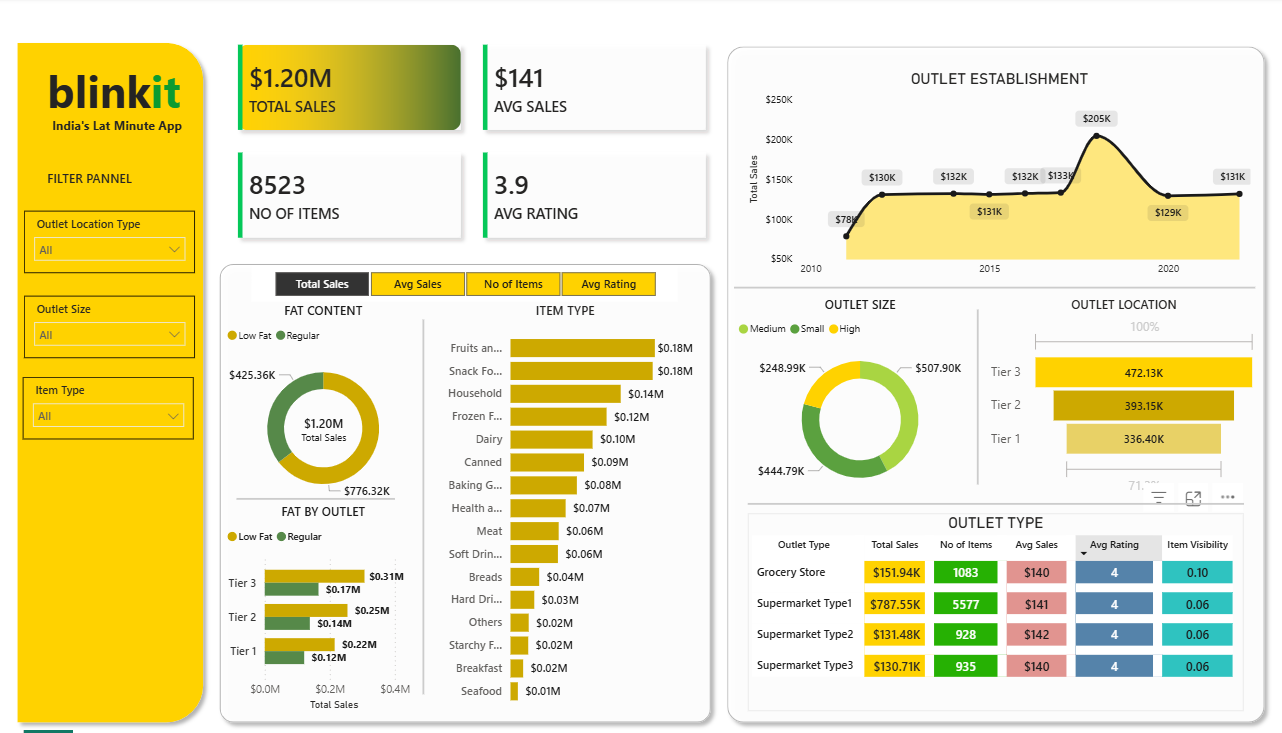

The page's visual inventory and layout, read from the dashboard file:
{"tool":"powerbi","page":{"name":"Page 1","canvas":[1400,800],"ordinal":0},"visuals":[{"type":"shape","box":[10.9,40.9,220.9,759.4],"z":0},{"type":"textbox","box":[47.7,125.4,162.2,32.7],"z":1000},{"type":"textbox","box":[47.7,64.1,165,77.7],"z":2000},{"type":"cardVisual","fields":{"Data":["BlinkIT Grocery Data.Total Sales","BlinkIT Grocery Data.Avg Sales","BlinkIT Grocery Data.No of Items","BlinkIT Grocery Data.Avg Rating"]},"box":[231.8,23.2,569.9,269.9],"z":3000},{"type":"shape","box":[231.8,282.2,553.5,518.1],"z":4000},{"type":"slicer","fields":{"Values":["Metrics.Metrics"]},"box":[275.4,293.1,464.9,39.5],"z":5000},{"type":"donutChart","title":"FAT CONTENT","fields":{"Y":["BlinkIT Grocery Data.Total Sales"],"Category":["BlinkIT Grocery Data.Item Fat Content"]},"box":[244,332.7,219.5,230.4],"z":6000},{"type":"cardVisual","fields":{"Data":["BlinkIT Grocery Data.Total Sales"]},"box":[276.8,439,155.4,64.1],"z":7000},{"type":"clusteredBarChart","title":"FAT BY OUTLET","fields":{"Y":["BlinkIT Grocery Data.Total Sales"],"Category":["BlinkIT Grocery Data.Outlet Location Type"],"Series":["BlinkIT Grocery Data.Item Fat Content"]},"box":[244,552.2,219.5,230.4],"z":8000},{"type":"shape","box":[259,531.7,173.1,31.4],"z":9000},{"type":"shape","box":[376.3,351.7,173.1,409],"z":10000},{"type":"barChart","title":"ITEM TYPE","fields":{"Y":["BlinkIT Grocery Data.Total Sales"],"Category":["BlinkIT Grocery Data.Item Type"]},"box":[473.1,332.7,289,449.9],"z":11000},{"type":"shape","box":[785.3,45,604,755.3],"z":12000},{"type":"lineChart","title":"OUTLET ESTABLISHMENT","fields":{"Y":["BlinkIT Grocery Data.Total Sales"],"Category":["BlinkIT Grocery Data.Outlet Establishment Year"]},"box":[812.5,79.1,557.6,234.5],"z":13000},{"type":"shape","box":[801.6,301.3,568.5,31.4],"z":14000},{"type":"donutChart","title":"OUTLET SIZE","fields":{"Y":["BlinkIT Grocery Data.Total Sales"],"Category":["BlinkIT Grocery Data.Outlet Size"]},"box":[801.6,325.8,275.4,225],"z":15000},{"type":"shape","box":[1048.4,340.8,38.2,190.9],"z":16000},{"type":"funnel","title":"OUTLET LOCATION","fields":{"Y":["Sum(BlinkIT Grocery Data.Sales)"],"Category":["BlinkIT Grocery Data.Outlet Location Type"]},"box":[1077,325.8,299.9,222.2],"z":17000},{"type":"pivotTable","title":"OUTLET TYPE","fields":{"Rows":["BlinkIT Grocery Data.Outlet Type"],"Values":["BlinkIT Grocery Data.Total Sales","BlinkIT Grocery Data.No of Items","BlinkIT Grocery Data.Avg Sales","BlinkIT Grocery Data.Avg Rating","Avg(BlinkIT Grocery Data.Item Visibility)"]},"box":[816.6,563.1,541.2,216.8],"z":18000},{"type":"shape","box":[816.6,537.2,541.2,31.4],"z":19000},{"type":"slicer","title":"FILTER PANNEL","fields":{"Values":["BlinkIT Grocery Data.Outlet Location Type"]},"box":[27.3,233.1,186.8,68.2],"z":20000},{"type":"slicer","fields":{"Values":["BlinkIT Grocery Data.Outlet Size"]},"box":[27.3,325.8,186.8,68.2],"z":21000},{"type":"slicer","fields":{"Values":["BlinkIT Grocery Data.Item Type"]},"box":[25.9,414.5,186.8,68.2],"z":22000},{"type":"textbox","box":[47.7,184.1,166.3,27.3],"z":23000}]}

Visuals, with their boxes in screenshot pixels (x1, y1, x2, y2), scaled from the page's 1400x800 canvas onto the 1282x733 screenshot:
shape: detection(10, 37, 212, 732)
textbox: detection(44, 115, 192, 145)
textbox: detection(44, 59, 195, 130)
cardVisual - BlinkIT Grocery Data.Total Sales x BlinkIT Grocery Data.Avg Sales: detection(212, 21, 734, 269)
shape: detection(212, 259, 719, 732)
slicer - Metrics.Metrics: detection(252, 269, 678, 305)
"FAT CONTENT" donutChart: detection(223, 305, 424, 516)
cardVisual - BlinkIT Grocery Data.Total Sales: detection(253, 402, 396, 461)
"FAT BY OUTLET" clusteredBarChart: detection(223, 506, 424, 717)
shape: detection(237, 487, 396, 516)
shape: detection(345, 322, 503, 697)
"ITEM TYPE" barChart: detection(433, 305, 698, 717)
shape: detection(719, 41, 1272, 732)
"OUTLET ESTABLISHMENT" lineChart: detection(744, 72, 1255, 287)
shape: detection(734, 276, 1255, 305)
"OUTLET SIZE" donutChart: detection(734, 299, 986, 505)
shape: detection(960, 312, 995, 487)
"OUTLET LOCATION" funnel: detection(986, 299, 1261, 502)
"OUTLET TYPE" pivotTable: detection(748, 516, 1243, 715)
shape: detection(748, 492, 1243, 521)
"FILTER PANNEL" slicer: detection(25, 214, 196, 276)
slicer - BlinkIT Grocery Data.Outlet Size: detection(25, 299, 196, 361)
slicer - BlinkIT Grocery Data.Item Type: detection(24, 380, 195, 442)
textbox: detection(44, 169, 196, 194)
